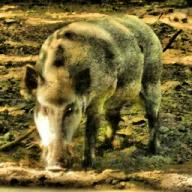boar: (20, 13, 164, 172)
